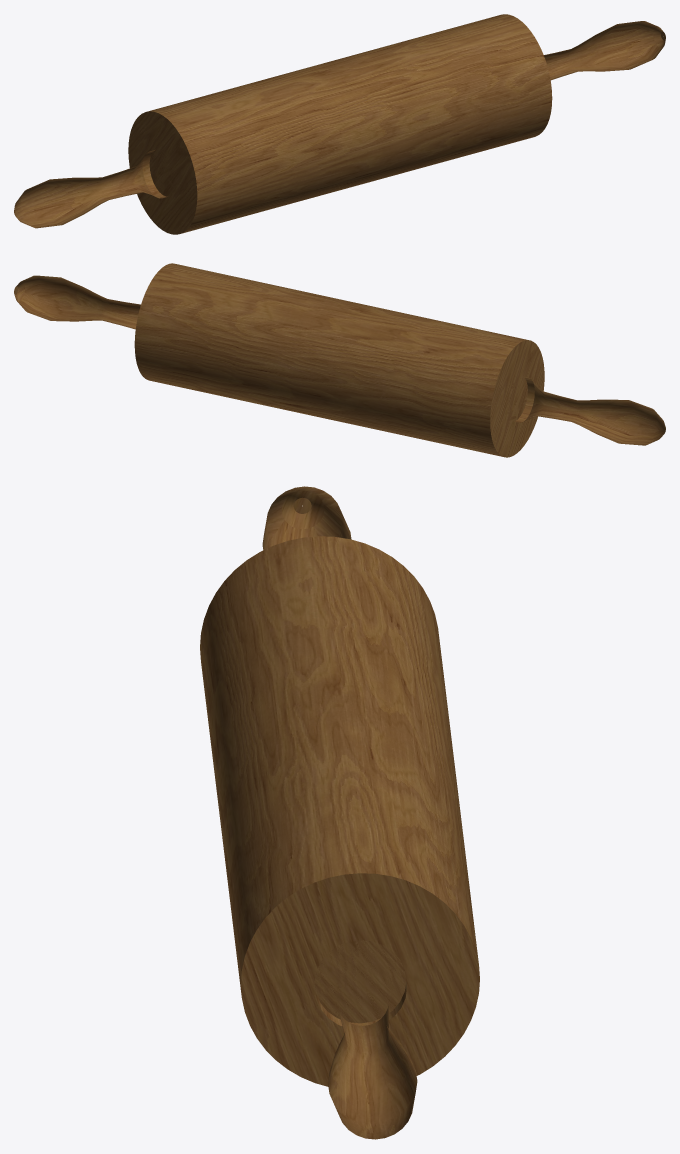
Rendered from rollingpin.glb.
The picture shows the model from 3 angles, top to bottom: view 1: azimuth 30°, elevation 25°; view 2: azimuth 150°, elevation 25°; view 3: azimuth 270°, elevation 25°; orthographic projection. The views are drawn at different scales.
Visible parts, largest first — view 1: rolling_pin_rolling_pin; view 2: rolling_pin_rolling_pin; view 3: rolling_pin_rolling_pin.
Part boxes in pixels (x1,y1,x2,y2): rolling_pin_rolling_pin: [14, 14, 665, 234]; rolling_pin_rolling_pin: [14, 263, 665, 457]; rolling_pin_rolling_pin: [200, 486, 479, 1139].
Bounding box in the file's own units: 15.11 × 2.49 × 2.91.
1 material, 1 textured.
